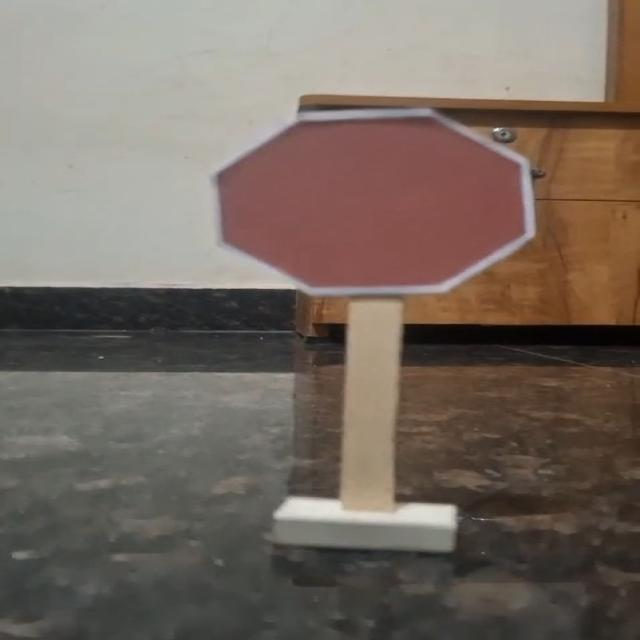Stop: (192, 99, 555, 302)
